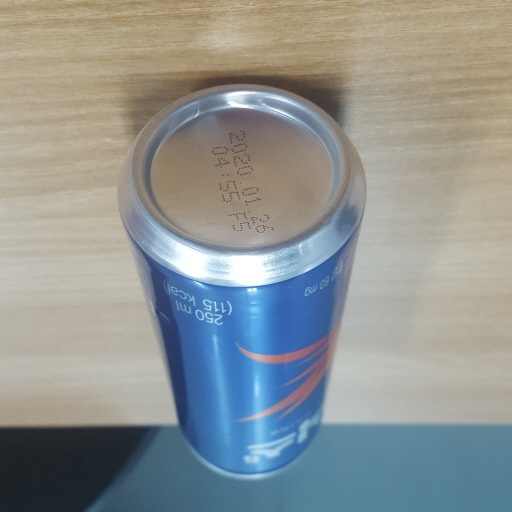Metal_0: (114, 82, 367, 481)
